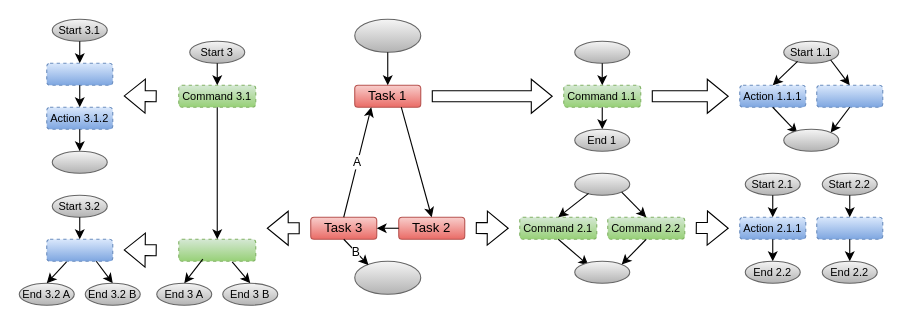
Some shapes in this 902 by 325 pixel diagram are drawn without their labels. The box of each missing label's shape, as (x1, y1, x2, y2) in pixels:
Action 1.1.2: (816, 84, 883, 107)
Action 2.2.1: (816, 216, 883, 239)
Action 3.1.1: (46, 62, 113, 85)
Action 3.2.1: (46, 238, 113, 261)
Command 3.2: (178, 238, 256, 261)
End: (354, 260, 421, 294)
End 1.1: (783, 128, 839, 151)
End 2: (574, 260, 630, 283)
End 3.1: (51, 150, 107, 173)
Start: (354, 18, 421, 52)
Start 1: (574, 40, 630, 63)
Start 2: (574, 172, 630, 195)
